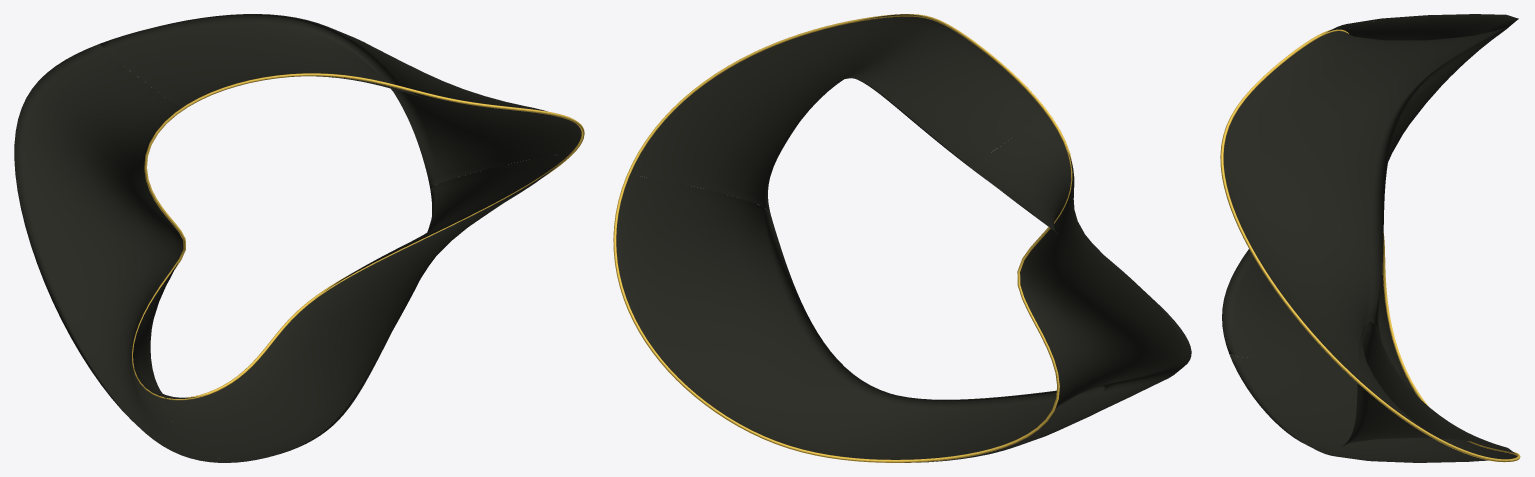
File: unda-sculpture-mobile.glb
3 renders of one model, left to right at view 1: azimuth 30°, elevation 25°; view 2: azimuth 150°, elevation 25°; view 3: azimuth 270°, elevation 25°, orthographic. The views are drawn at different scales.
Parts seen in each view (by area): view 1: Ribbon_1, Ribbon_2, Ribbon_0, Gold_Seam; view 2: Ribbon_2, Ribbon_0, Ribbon_1, Gold_Seam; view 3: Ribbon_0, Ribbon_2, Ribbon_1, Gold_Seam.
Part boxes in pixels (box(x1,y1,x2,y2)): Ribbon_1: box(14, 44, 227, 462); Ribbon_2: box(159, 154, 568, 462); Ribbon_0: box(100, 14, 581, 188); Gold_Seam: box(132, 73, 584, 400); Ribbon_2: box(616, 176, 1104, 462); Ribbon_0: box(629, 14, 1044, 210); Ribbon_1: box(967, 111, 1191, 435); Gold_Seam: box(613, 14, 1072, 462); Ribbon_0: box(1223, 15, 1499, 382); Ribbon_2: box(1229, 321, 1517, 462); Ribbon_1: box(1222, 14, 1518, 358); Gold_Seam: box(1220, 29, 1520, 462).
Size of the model in its own units: 3.61 by 2.5 by 1.72.
